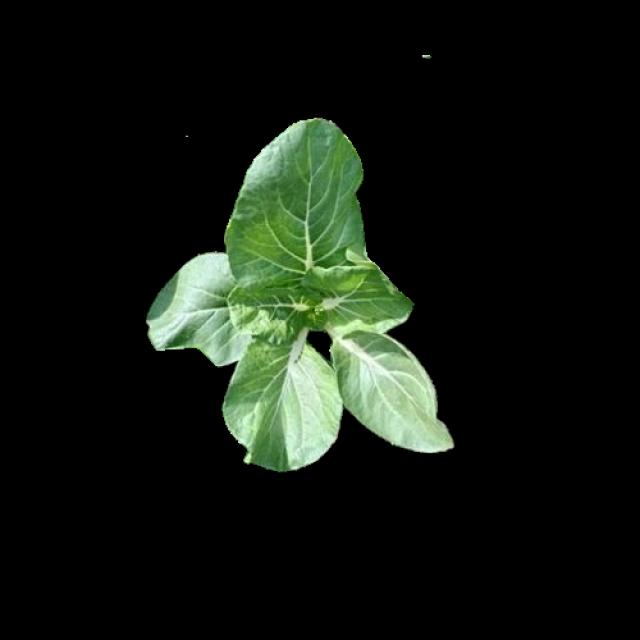healthy: (148, 140, 450, 462)
not-mature: (151, 124, 461, 465)
